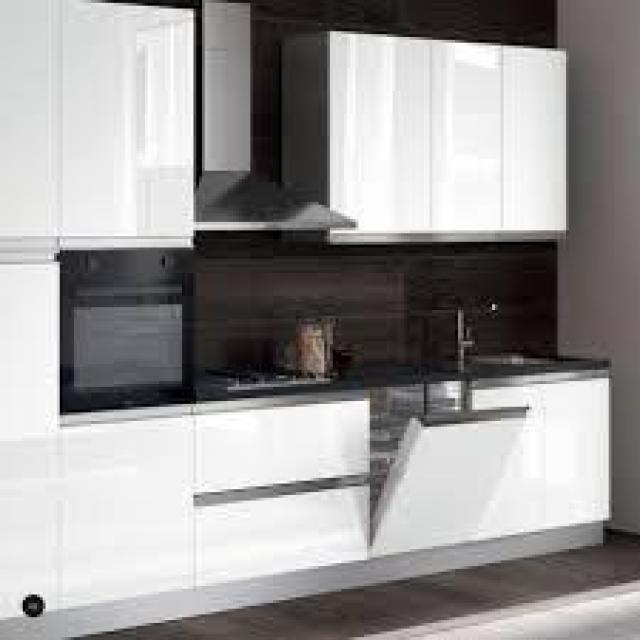dishwasher: (361, 373, 538, 546)
